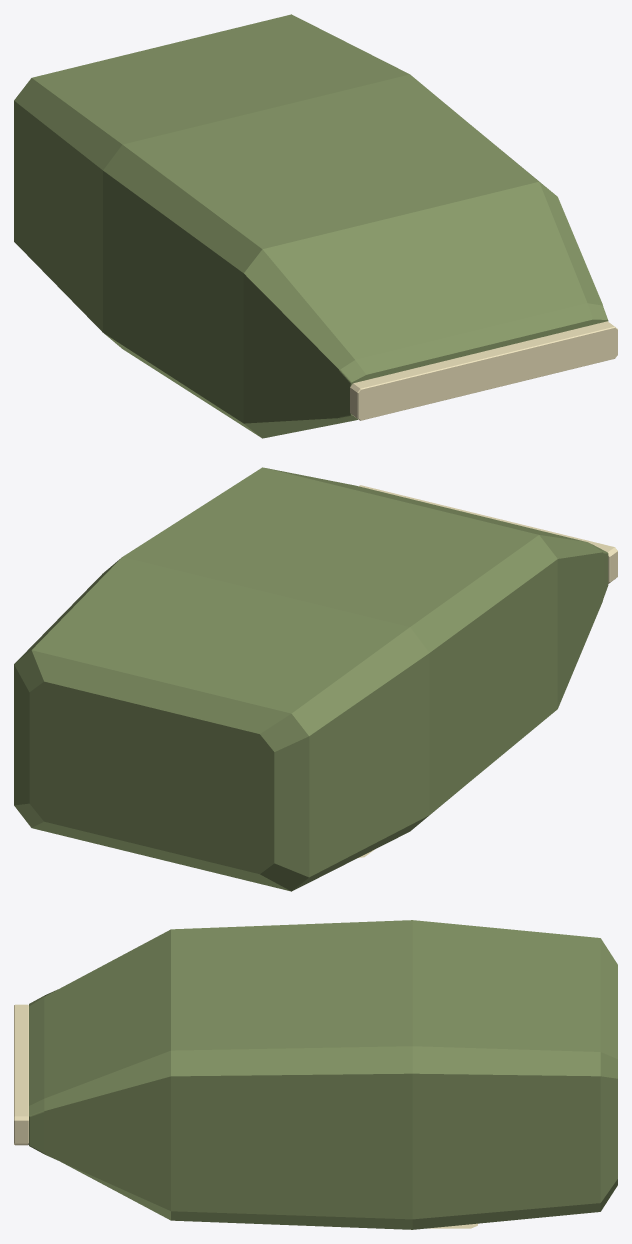
The model's file is cat_litter.glb.
3 renders of one model, top to bottom at view 1: azimuth 30°, elevation 25°; view 2: azimuth 150°, elevation 25°; view 3: azimuth 270°, elevation 25°, orthographic. The views are drawn at different scales.
Visible parts, largest first — view 1: cat_litter; view 2: cat_litter; view 3: cat_litter.
Boxes of the visible parts, x1=… form: cat_litter: x1=14, y1=14, x2=617, y2=438; cat_litter: x1=14, y1=467, x2=617, y2=891; cat_litter: x1=14, y1=920, x2=617, y2=1229.
Bounding box in the file's own units: 0.157 × 0.1023 × 0.28.
